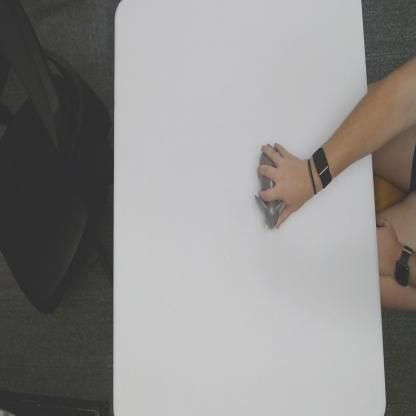Arm: (338, 52, 411, 185)
Elephant: (254, 142, 284, 232)
Hand: (269, 129, 312, 222)
